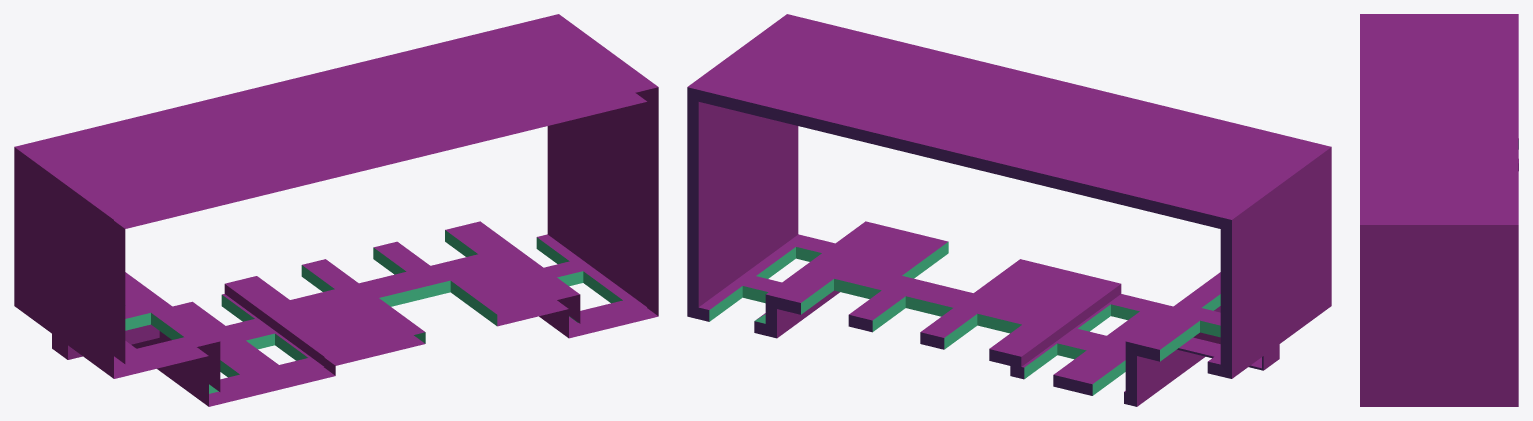
File: dom glogierow Tier 1.fbx
3 renders of one model, left to right at view 1: azimuth 30°, elevation 25°; view 2: azimuth 150°, elevation 25°; view 3: azimuth 270°, elevation 25°, orthographic. The views are drawn at different scales.
Parts seen in each view (by area): view 1: Dom_Glogierów_Cube.001; view 2: Dom_Glogierów_Cube.001; view 3: Dom_Glogierów_Cube.001.
Boxes of the visible parts, x1=… form: Dom_Glogierów_Cube.001: x1=14, y1=14, x2=658, y2=406; Dom_Glogierów_Cube.001: x1=687, y1=14, x2=1331, y2=406; Dom_Glogierów_Cube.001: x1=1360, y1=14, x2=1518, y2=406.
Size of the model in its own units: 4.57 by 1.84 by 1.45.
